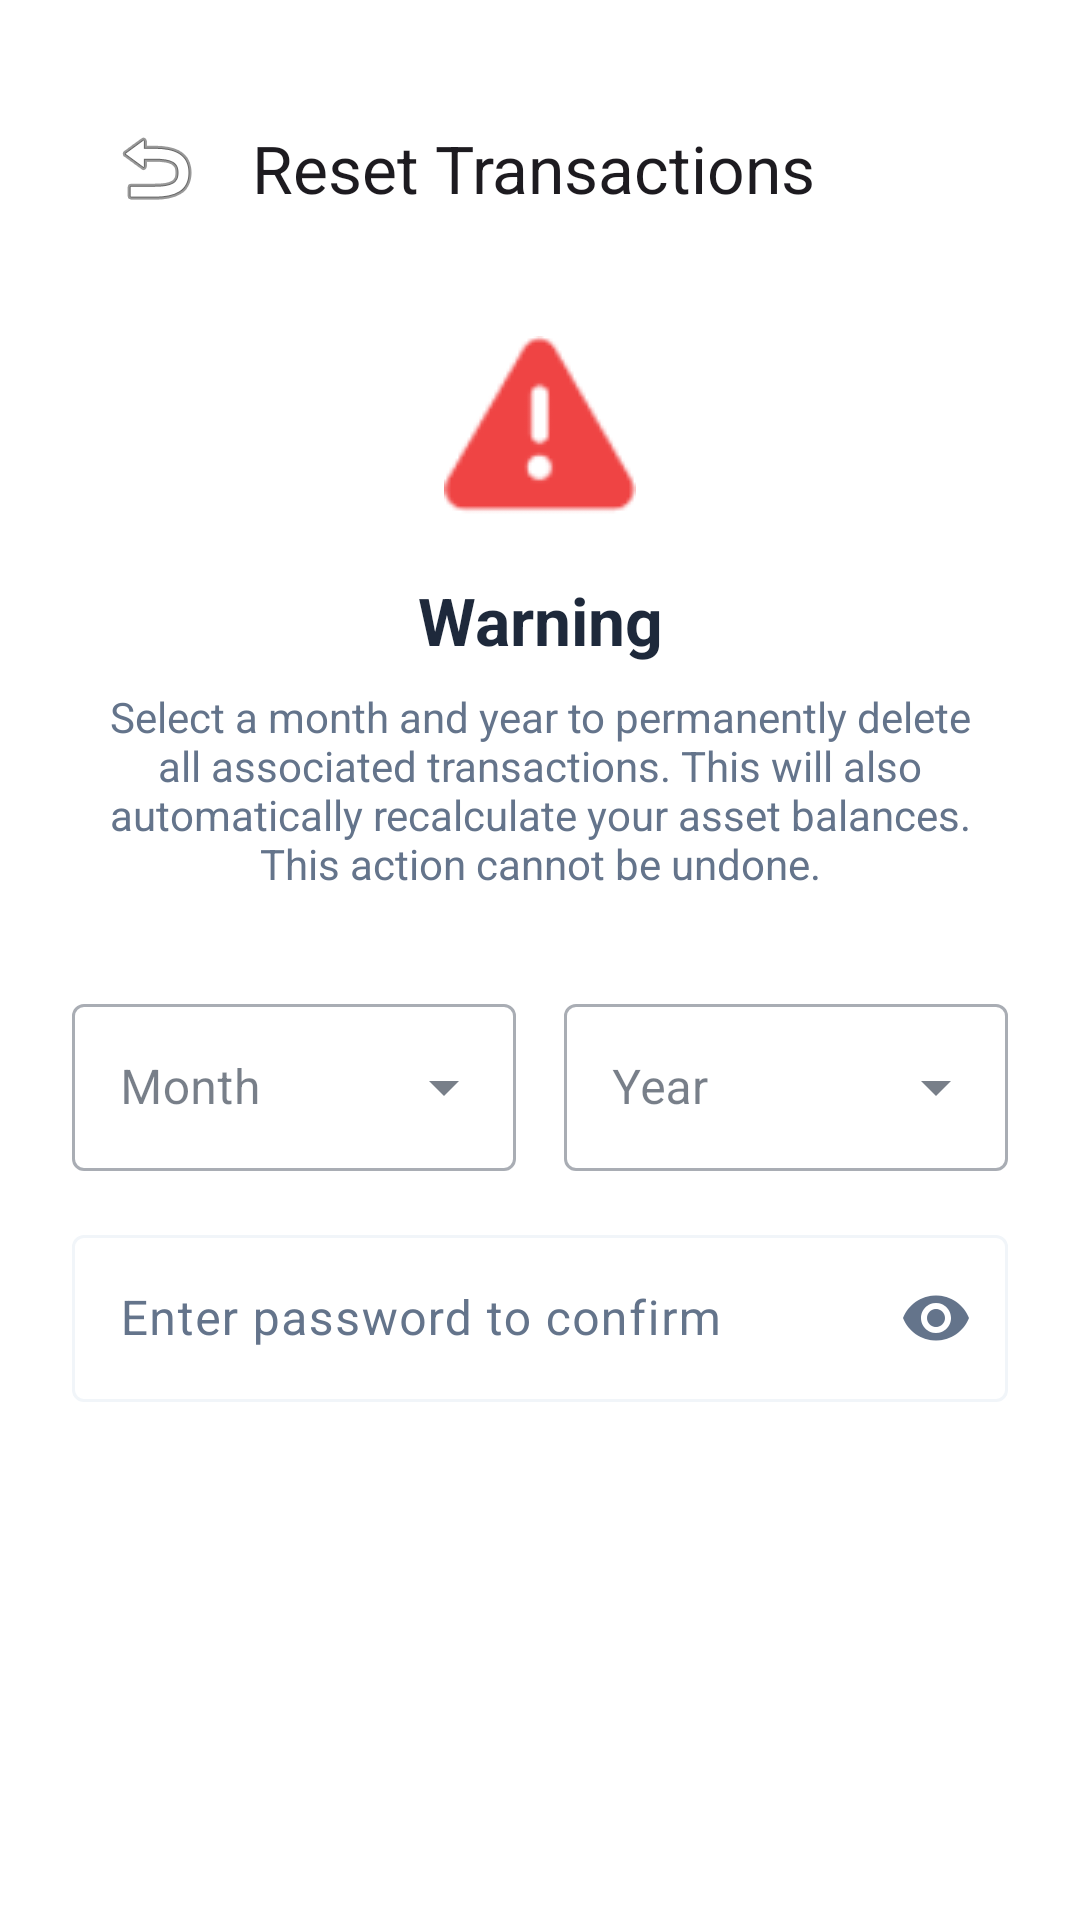

Screen size 1080*1920. Icon name, then its box in pixels as (x1, y1, x2, y2):
alert: (444, 336, 636, 511)
